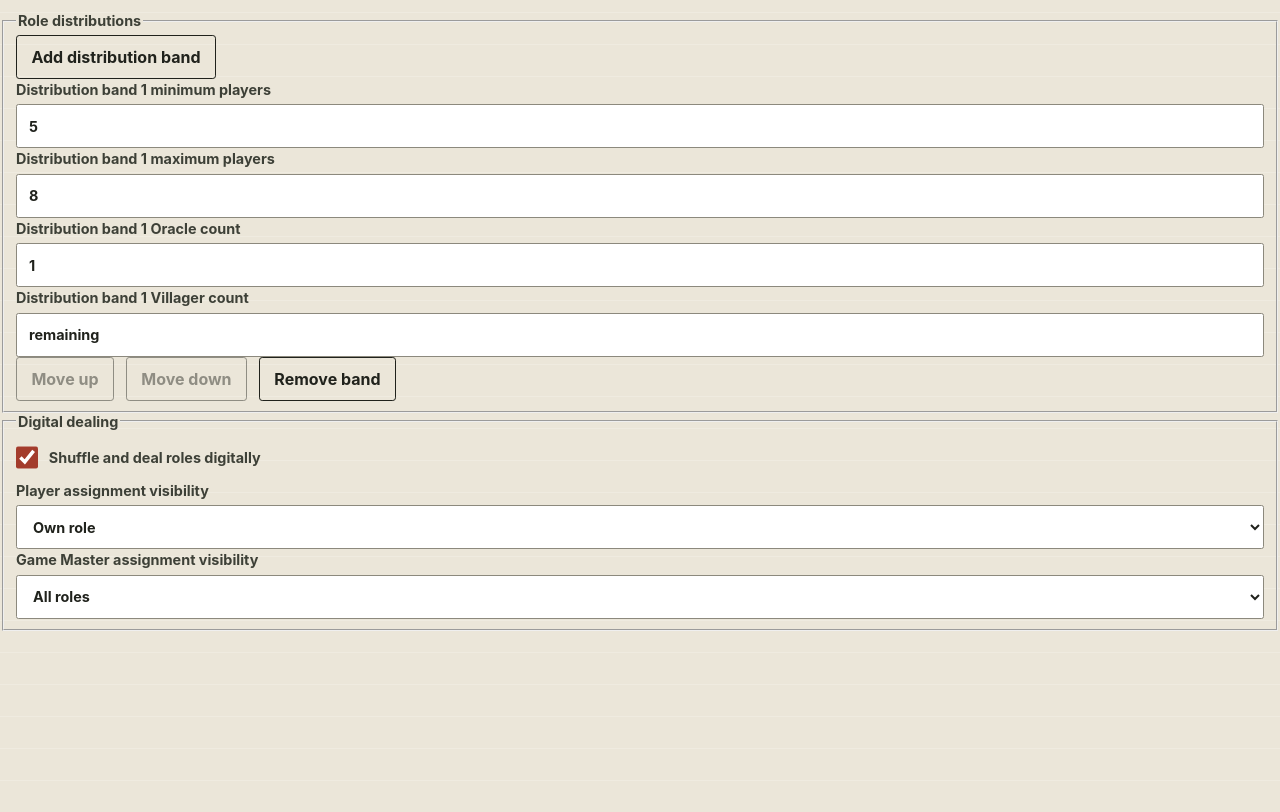
Test: DistributionEditor › disables assignment visibility while a distribution draft is incomplete
Replace the text in the field labelled "Distribution band 1 maximum players" with "7" at (640, 196), box [16,174,1264,218]
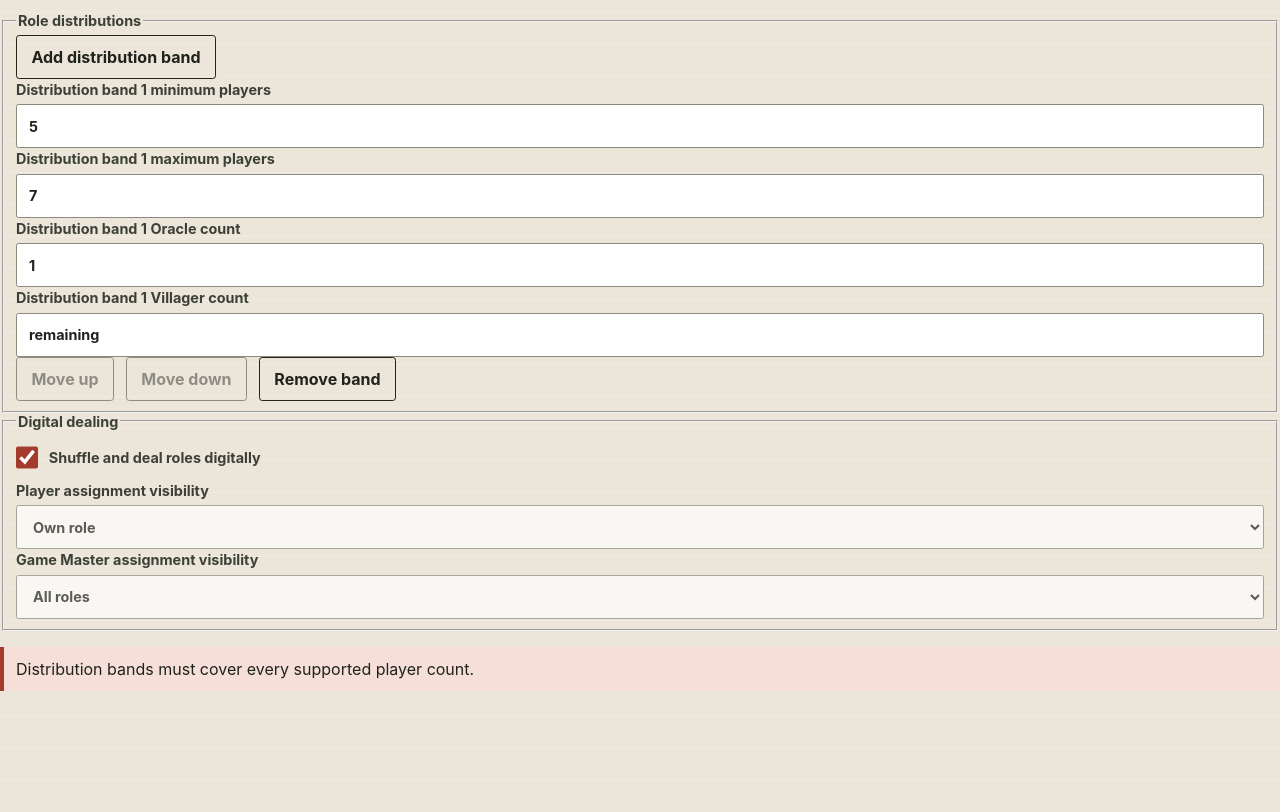
Check: the checkbox named "Enable digital dealing" is enabled, box [16,446,38,469]
Check: the dropdown labelled "Player assignment visibility" is disabled, box [16,505,1264,549]
Check: the dropdown labelled "Game Master assignment visibility" is disabled, box [16,575,1264,619]
